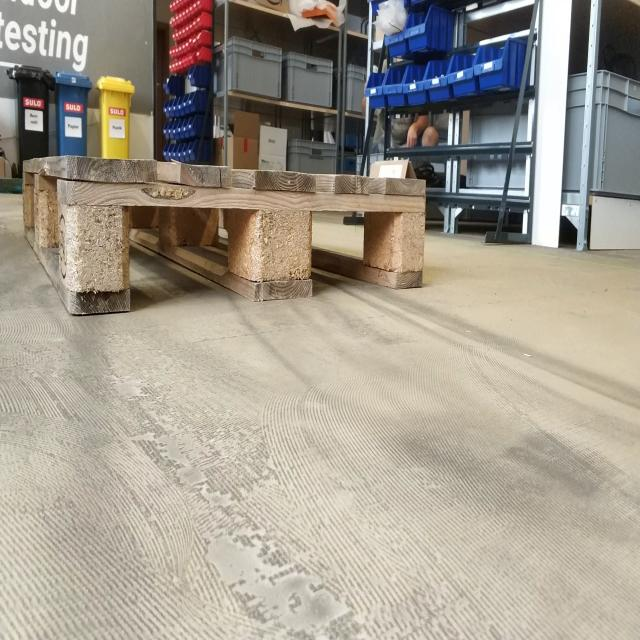block: (66, 157, 132, 314), (254, 168, 316, 304), (385, 176, 430, 290)
front: (65, 157, 425, 315)
